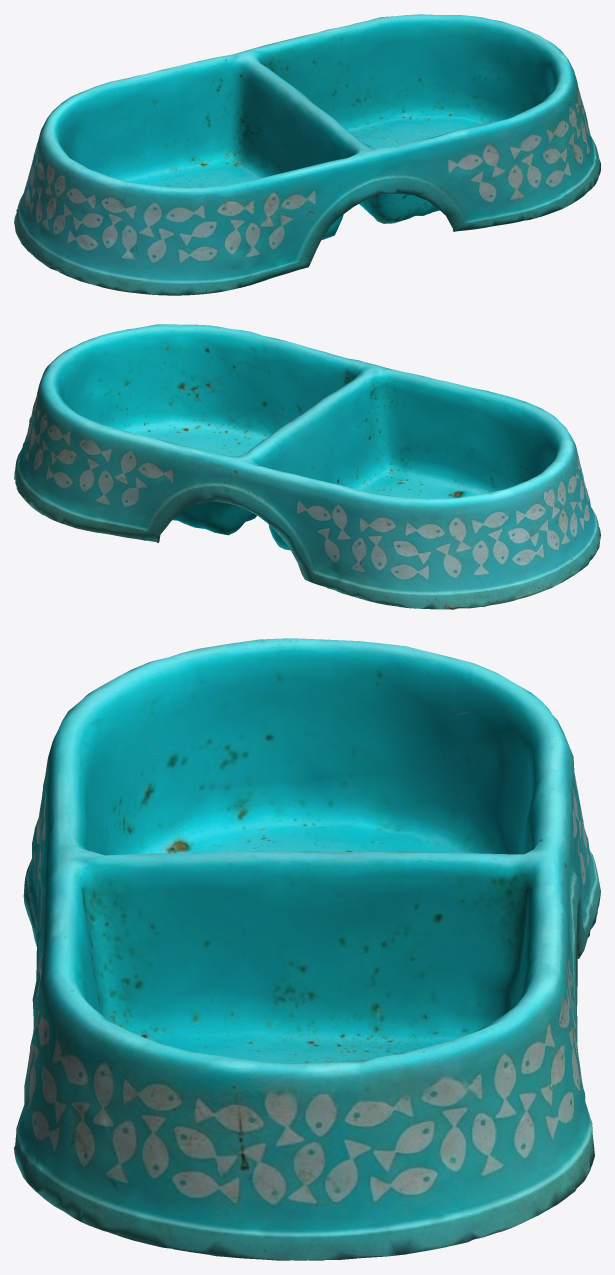
The model's file is comidagato.glb.
3 renders of one model, top to bottom at view 1: azimuth 30°, elevation 25°; view 2: azimuth 150°, elevation 25°; view 3: azimuth 270°, elevation 25°, orthographic. The views are drawn at different scales.
Parts seen in each view (by area): view 1: Mesh_0.005_Material_0.001_0; view 2: Mesh_0.005_Material_0.001_0; view 3: Mesh_0.005_Material_0.001_0.
Boxes of the visible parts, x1,y1,x2,y2 form: Mesh_0.005_Material_0.001_0: (14, 14, 600, 295); Mesh_0.005_Material_0.001_0: (14, 324, 600, 609); Mesh_0.005_Material_0.001_0: (14, 638, 600, 1260).
Bounding box in the file's own units: 0.2616 × 0.045 × 0.1365.
Materials: 1 (1 with a texture image).
